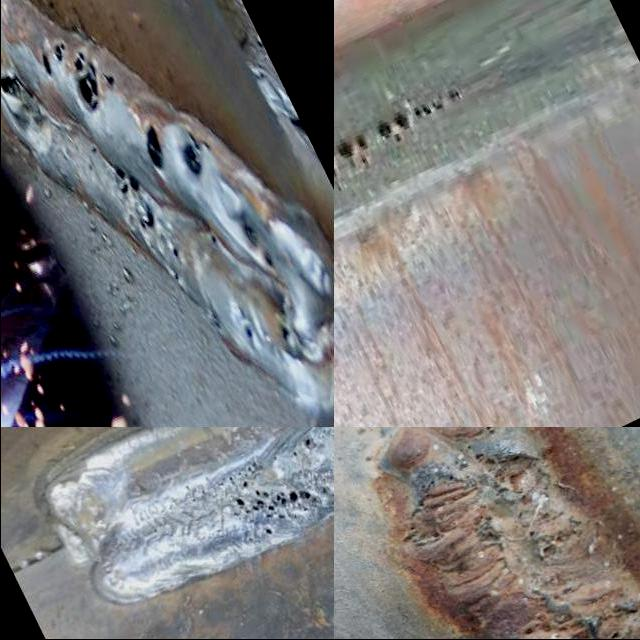defect: (33, 36, 120, 116), (226, 476, 324, 541), (370, 86, 469, 147), (409, 468, 464, 546), (471, 447, 544, 502), (0, 69, 46, 132), (521, 608, 593, 640), (139, 112, 169, 176), (179, 126, 212, 181), (463, 500, 501, 544), (535, 526, 573, 560), (274, 310, 302, 353), (112, 162, 143, 200), (135, 203, 155, 237), (239, 219, 260, 251), (294, 434, 320, 454), (240, 321, 256, 345), (208, 309, 222, 332), (263, 251, 276, 270), (480, 428, 504, 438), (606, 628, 624, 640), (622, 608, 640, 620), (85, 156, 96, 173), (88, 142, 100, 156), (170, 245, 179, 260), (210, 234, 219, 247), (173, 273, 179, 282)
